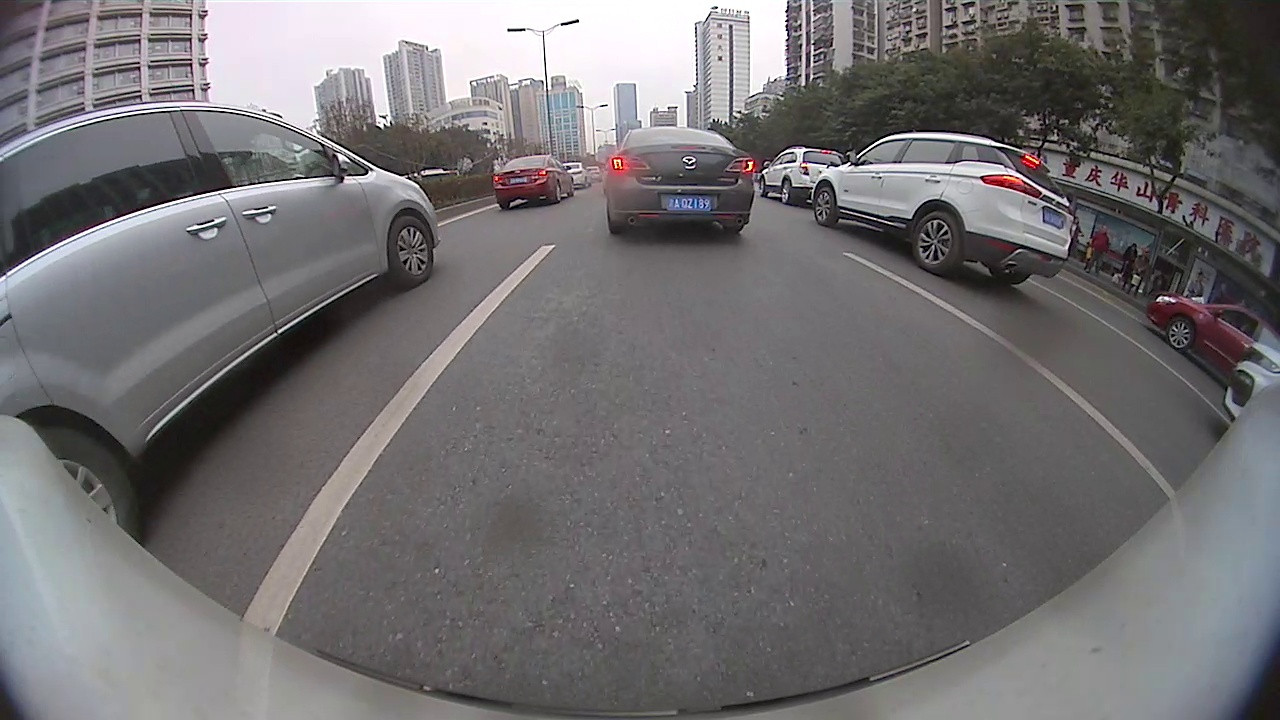car: (1, 99, 440, 546), (811, 132, 1073, 287), (604, 124, 756, 238), (1145, 290, 1279, 381), (756, 147, 844, 205), (1220, 341, 1278, 425), (491, 153, 572, 211), (561, 160, 583, 189), (582, 165, 602, 183)
front: (386, 215, 434, 282), (1164, 316, 1197, 353), (812, 187, 838, 227), (755, 174, 765, 198)
person: (1092, 223, 1109, 278), (1137, 244, 1150, 297), (1126, 242, 1137, 294), (1191, 268, 1205, 303), (1070, 215, 1081, 249)
rear: (18, 423, 150, 553), (911, 210, 962, 276), (780, 178, 792, 206)
